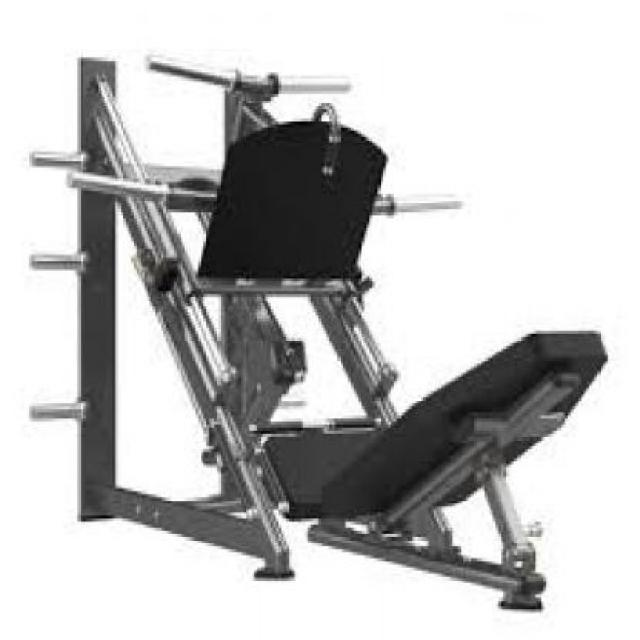leg press: (20, 34, 635, 626)
